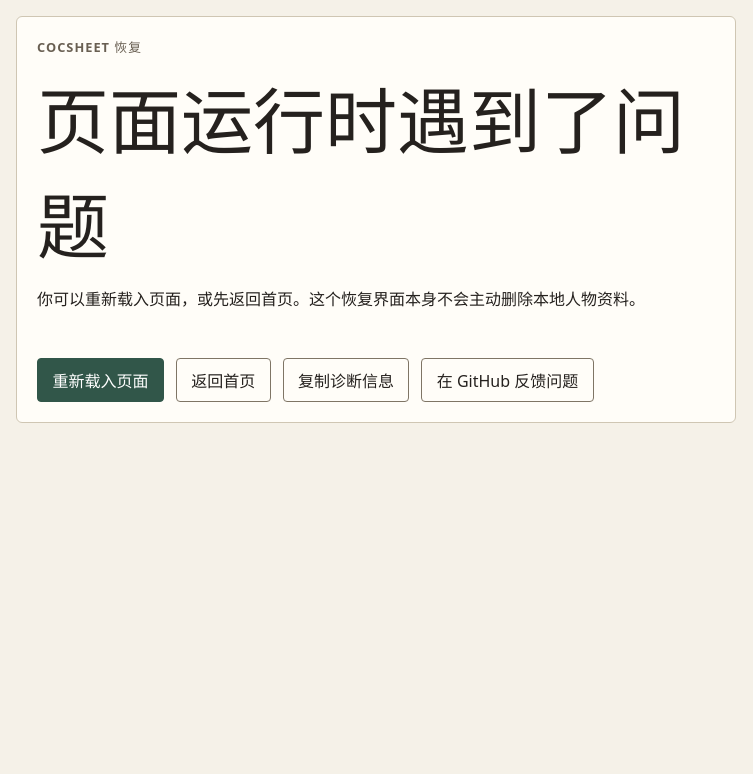
Test: RuntimeRecoveryPanel › shows readonly manual diagnostics when Clipboard API fails
Click the button "复制诊断信息".
click(346, 380)  # box x1=283 y1=358 x2=409 y2=402
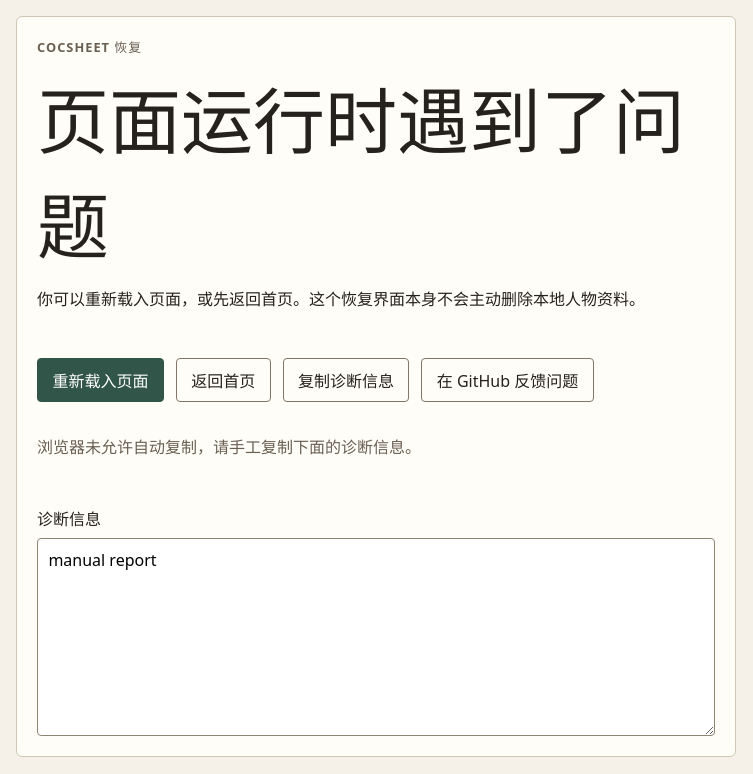
Expected: the text box labelled "诊断信息" holds "manual report", x1=37 y1=538 x2=715 y2=736
